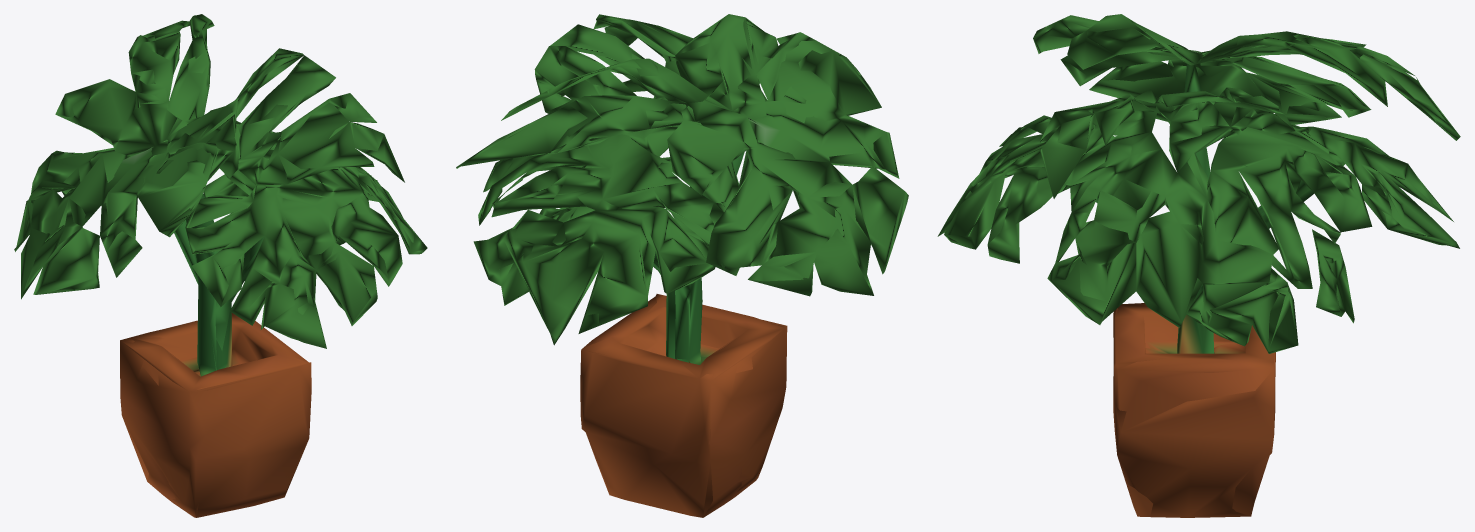
File: gen3d-monstera-plant-lod0.glb
3 renders of one model, left to right at view 1: azimuth 30°, elevation 25°; view 2: azimuth 150°, elevation 25°; view 3: azimuth 270°, elevation 25°, orthographic. The views are drawn at different scales.
Visible parts, largest first — view 1: part_0; view 2: part_0; view 3: part_0.
Part boxes in pixels (x1,y1,x2,y2): part_0: [14, 14, 427, 517]; part_0: [456, 14, 908, 517]; part_0: [937, 14, 1460, 517].
Bounding box in the file's own units: 0.9144 × 0.9995 × 1.
